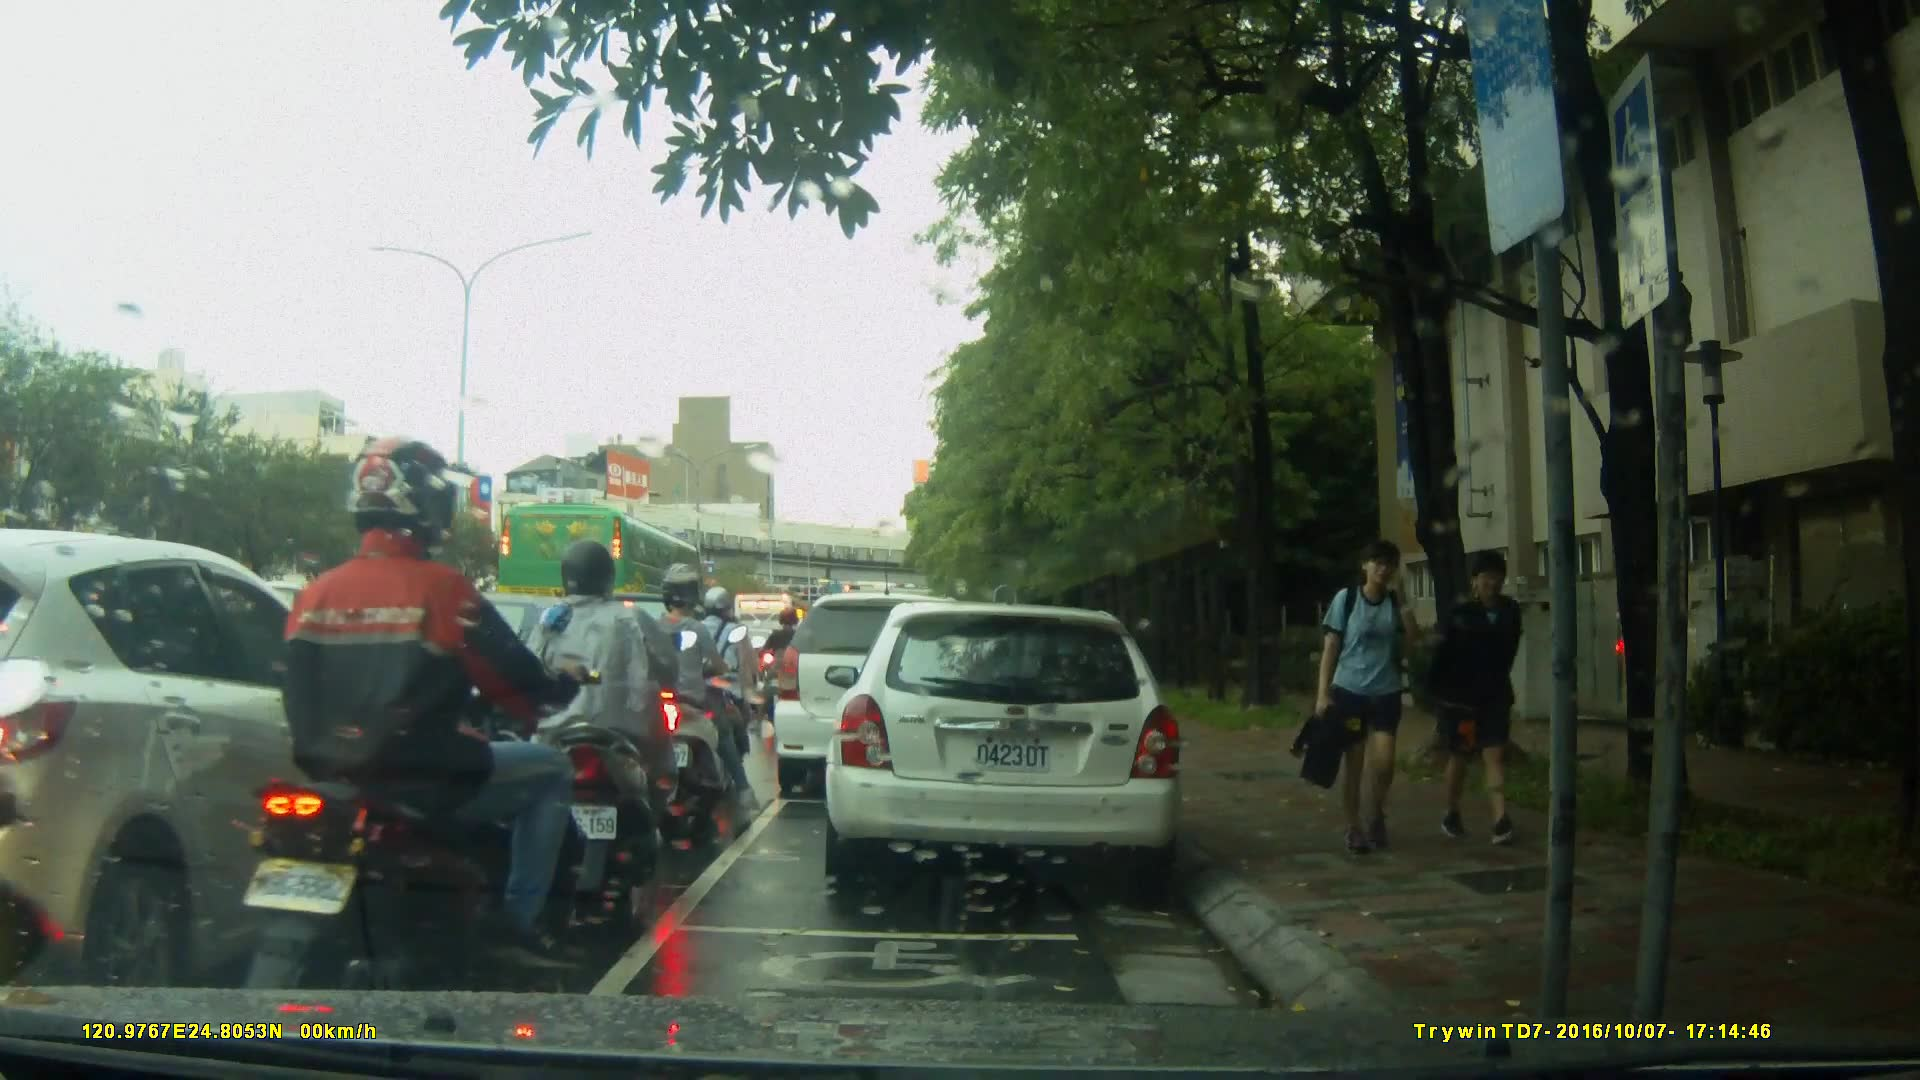pedestrian: (1290, 537, 1445, 861), (1440, 541, 1534, 853)
rider: (240, 433, 597, 1015), (517, 545, 703, 906), (637, 564, 746, 829), (689, 586, 764, 776), (764, 601, 809, 727)
vehicle: (1, 529, 453, 988), (831, 592, 1196, 897), (320, 590, 628, 784), (770, 590, 999, 803), (495, 501, 707, 636)
